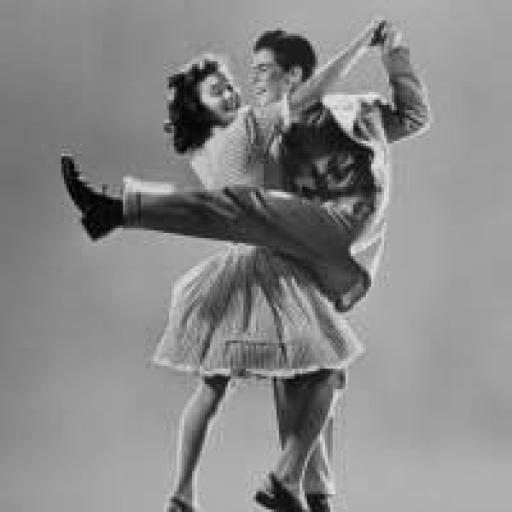dancing: (56, 16, 436, 510)
